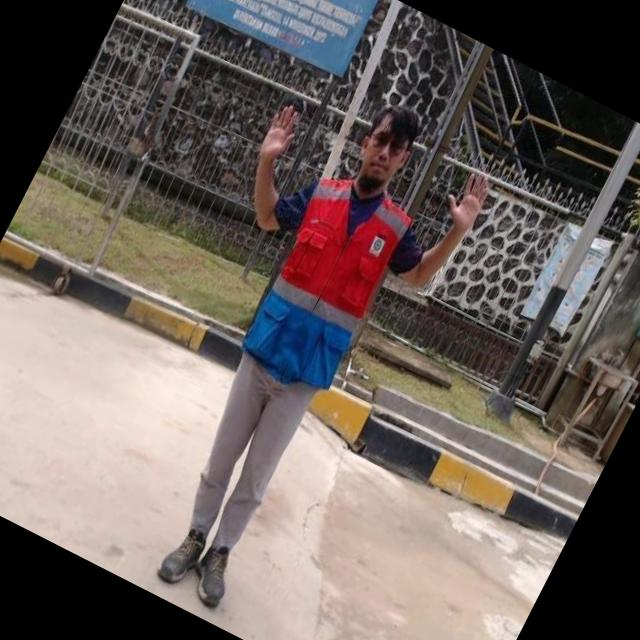safety_vest: (232, 166, 422, 400)
vehicle: (34, 34, 553, 640)
work_boots: (180, 536, 248, 614), (154, 514, 215, 590)
